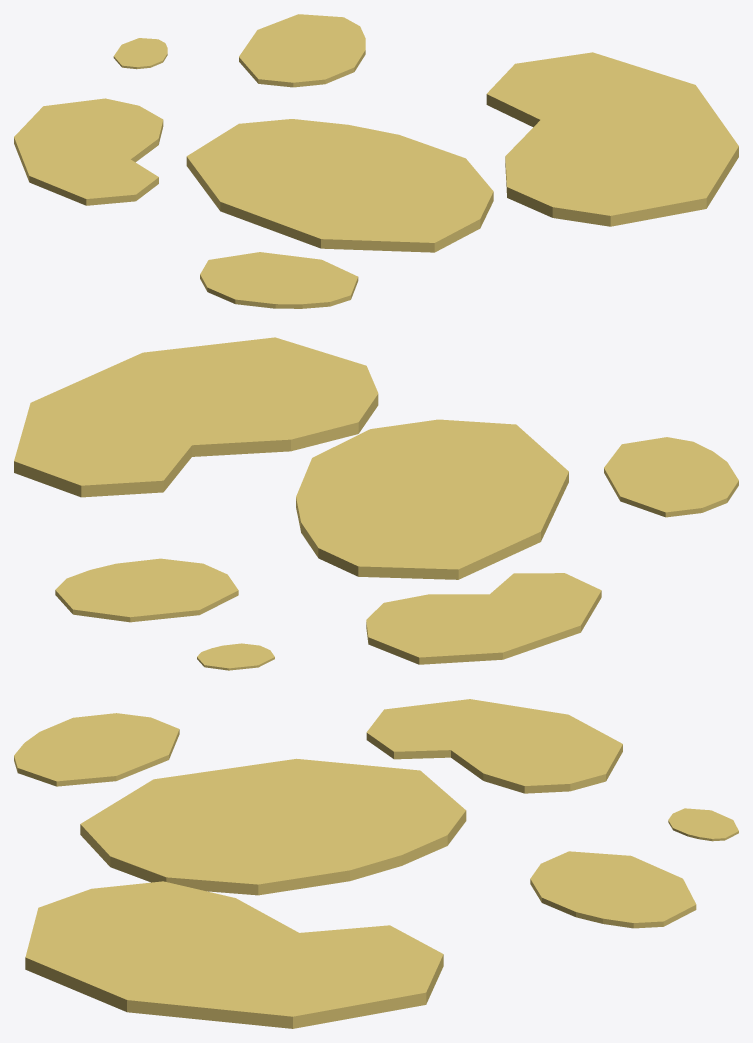
The model's file is tiles.fbx.
3 views of the same model, one above another, from view 1: azimuth 30°, elevation 25°; view 2: azimuth 150°, elevation 25°; view 3: azimuth 270°, elevation 25° (orthographic). The views are drawn at different scales.
Parts seen in each view (by area): view 1: tiles; view 2: tiles; view 3: tiles.
Boxes of the visible parts, <box> form: tiles: <box>14,14,738,308</box>; tiles: <box>14,337,738,670</box>; tiles: <box>14,699,738,1028</box>.
Size of the model in its own units: 256 by 5.14 by 243.
